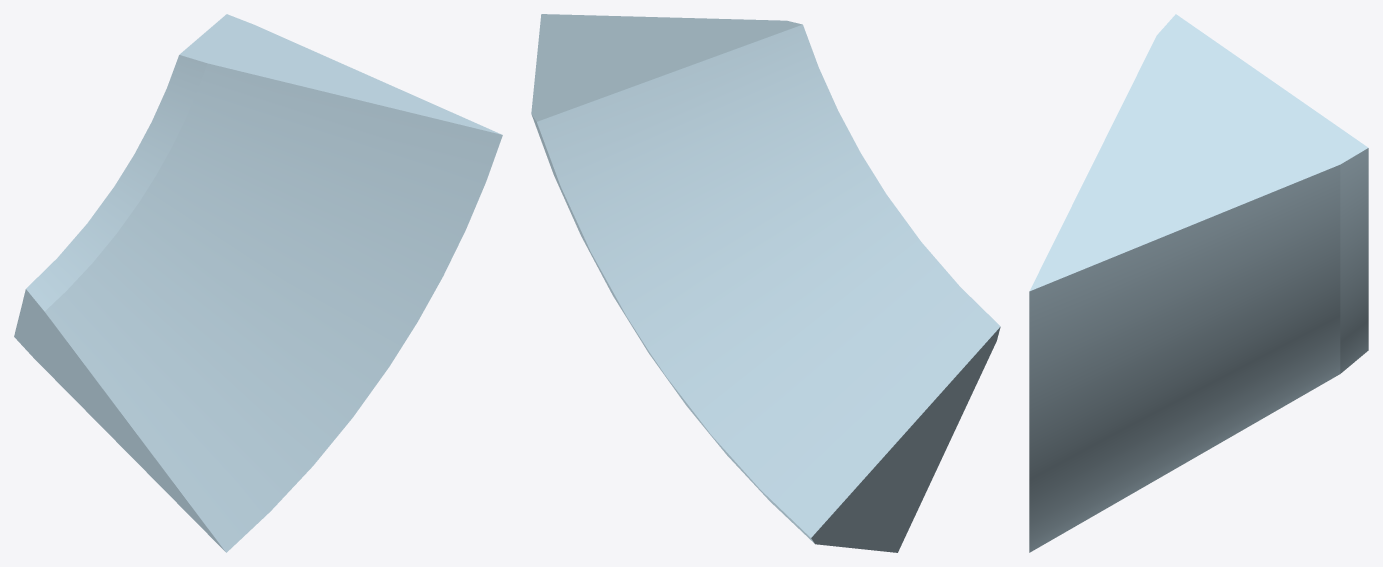
Rendered from Sub_4_Cell_2_3.gltf.
3 views of the same model, side by side, from view 1: azimuth 30°, elevation 25°; view 2: azimuth 150°, elevation 25°; view 3: azimuth 270°, elevation 25° (orthographic). The views are drawn at different scales.
Visible parts, largest first — view 1: Sub_4_Cell_2_3; view 2: Sub_4_Cell_2_3; view 3: Sub_4_Cell_2_3.
Boxes of the visible parts, x1,y1,x2,y2 form: Sub_4_Cell_2_3: [14, 14, 502, 552]; Sub_4_Cell_2_3: [531, 14, 1000, 552]; Sub_4_Cell_2_3: [1029, 14, 1368, 552].
Size of the model in its own units: 0.084 by 0.0868 by 0.0488.
